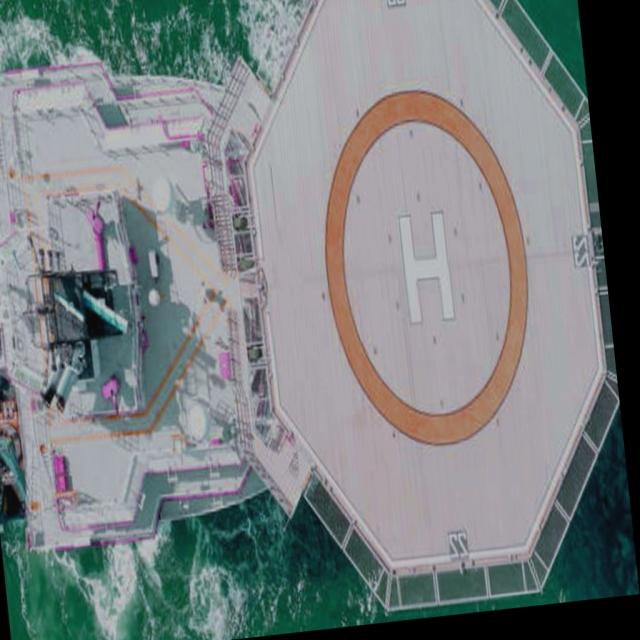helipad: (317, 84, 535, 449)
